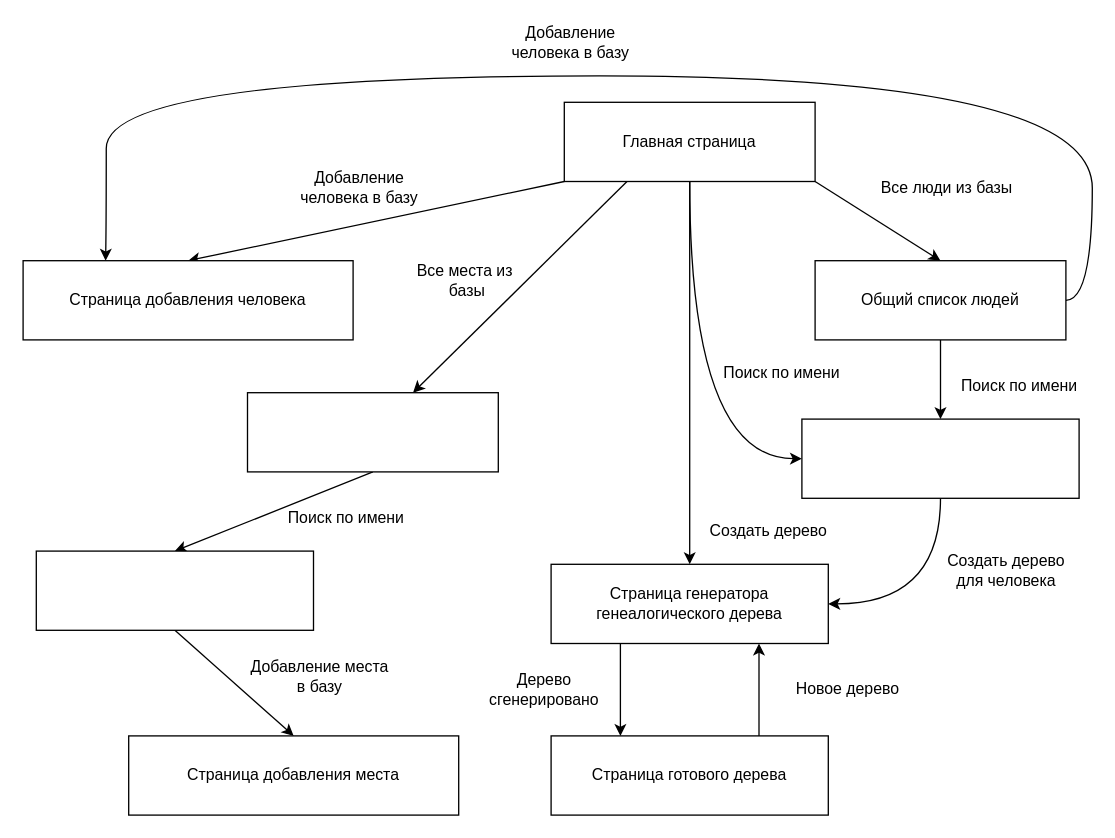
The diagram is 1115 pixels wide and 838 high, and some of its shapes have lost their labels. The shapes that lost their labels are listed below. From the top down, each one's box as (x1, y1, x2, y2) in pixels, then its label:
(246, 391, 498, 472): Общий список мест
(801, 418, 1079, 498): Страница информации о человеке
(35, 550, 314, 630): Страница информации о месте
